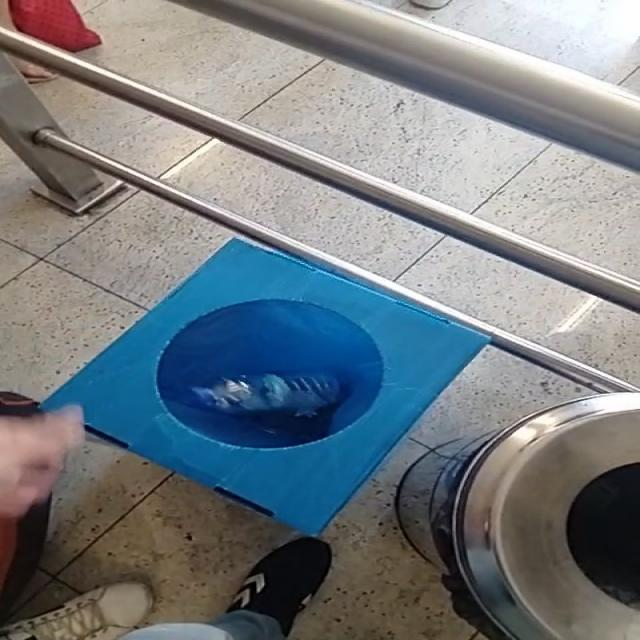plastic: (192, 374, 296, 415), (300, 389, 325, 407), (291, 404, 315, 416)
